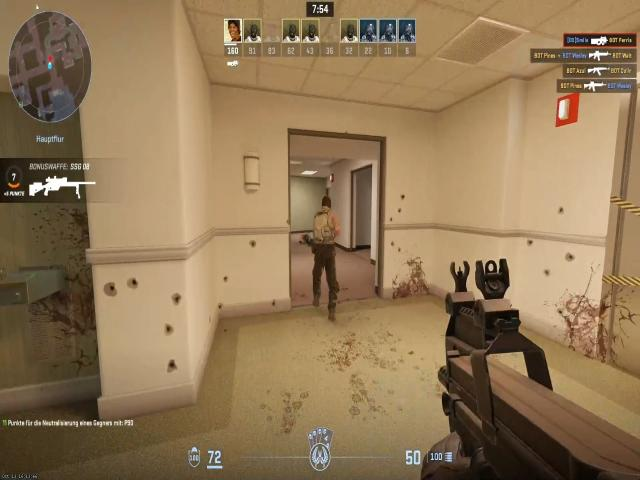T: (307, 196, 343, 260)
T-Head: (313, 190, 339, 218)
